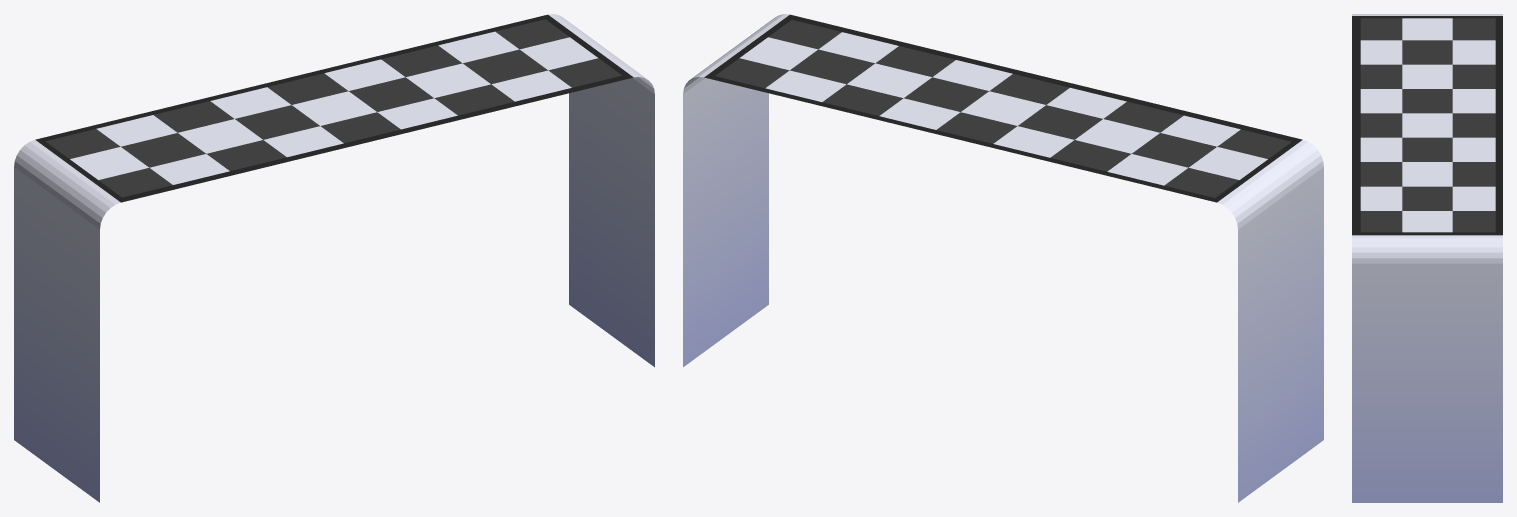
The model's file is cashierrun_finishline.fbx.
3 renders of one model, left to right at view 1: azimuth 30°, elevation 25°; view 2: azimuth 150°, elevation 25°; view 3: azimuth 270°, elevation 25°, orthographic. The views are drawn at different scales.
Parts seen in each view (by area): view 1: cashierrun_platform.finishline; view 2: cashierrun_platform.finishline; view 3: cashierrun_platform.finishline.
Part boxes in pixels (x1,y1,x2,y2): cashierrun_platform.finishline: (14,14,654,502); cashierrun_platform.finishline: (683,14,1323,502); cashierrun_platform.finishline: (1352,14,1502,502).
Size of the model in its own units: 11.9 by 6.05 by 3.19.
